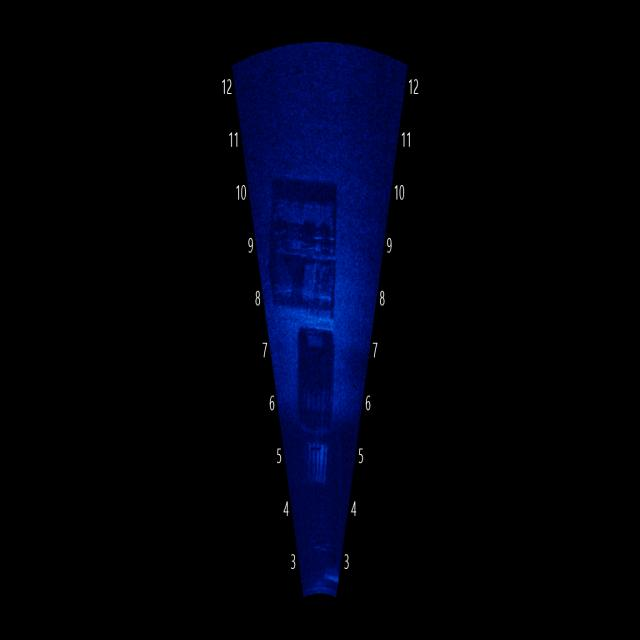square: (256, 131, 350, 320), (292, 324, 340, 509)
